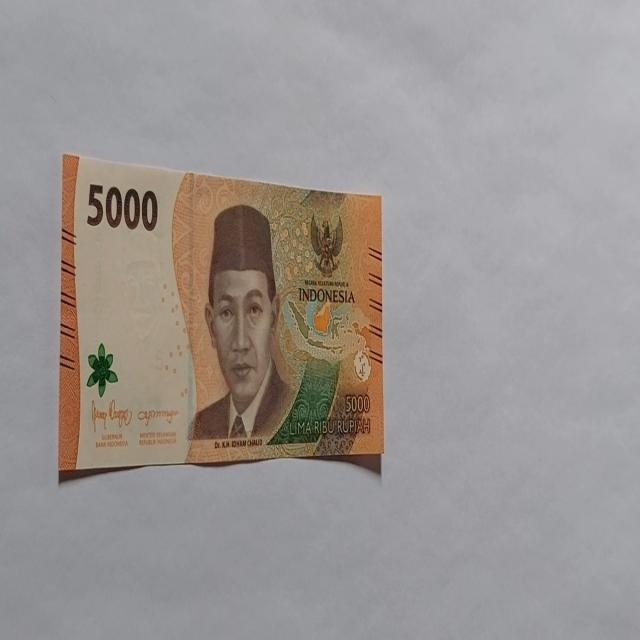lima ribu rupiah: (58, 151, 384, 479), (186, 203, 296, 448)
